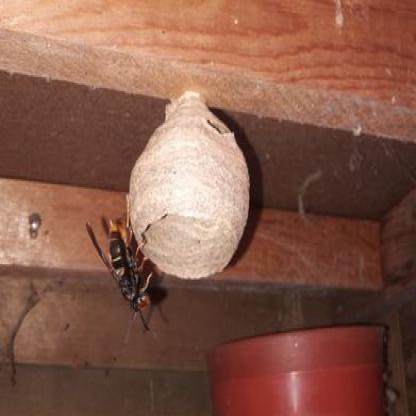Asian Hornet: (85, 194, 170, 336)
